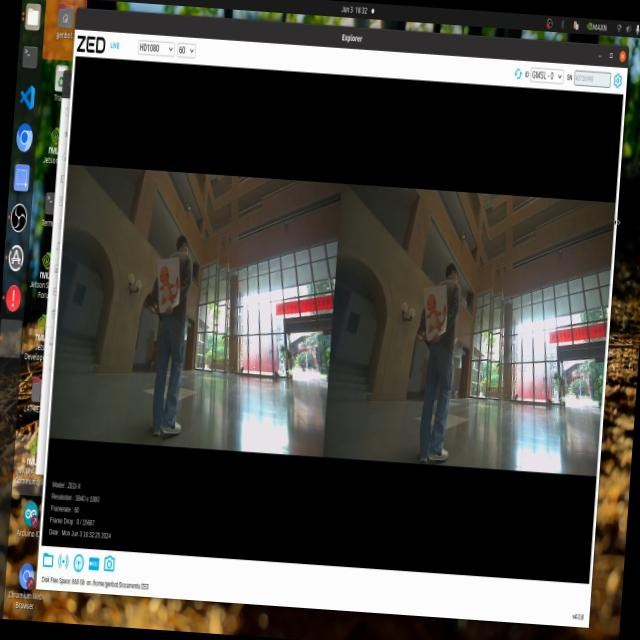red: (414, 280, 456, 346), (148, 258, 190, 316)
